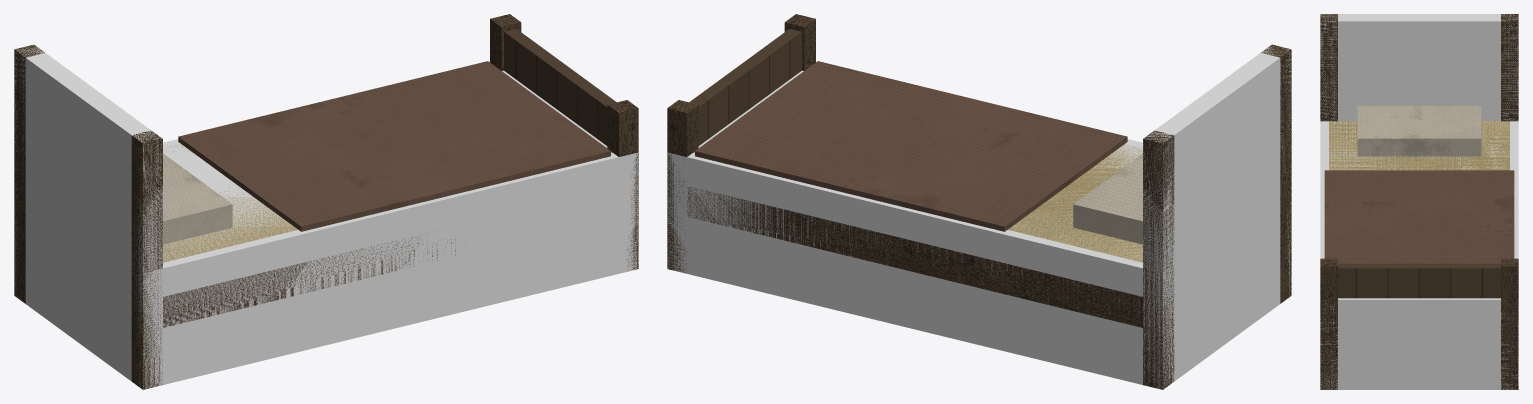
The model's file is bed.glb.
3 renders of one model, left to right at view 1: azimuth 30°, elevation 25°; view 2: azimuth 150°, elevation 25°; view 3: azimuth 270°, elevation 25°, orthographic. The views are drawn at different scales.
Parts seen in each view (by area): view 1: COL_HULL_bed, bed, COL_HULL_head; view 2: bed, COL_HULL_bed, COL_HULL_head; view 3: bed, COL_HULL_bed, COL_HULL_head.
Part boxes in pixels (bbox=[...]): COL_HULL_bed: bbox=[14, 70, 638, 389]; bed: bbox=[14, 14, 638, 389]; COL_HULL_head: bbox=[14, 44, 162, 273]; bed: bbox=[667, 14, 1291, 389]; COL_HULL_bed: bbox=[667, 70, 1291, 389]; COL_HULL_head: bbox=[1143, 45, 1291, 272]; bed: bbox=[1320, 14, 1518, 389]; COL_HULL_bed: bbox=[1320, 121, 1518, 389]; COL_HULL_head: bbox=[1320, 14, 1518, 121].
Size of the model in its own units: 2 by 0.95 by 0.9.
Materials: 5 (5 with a texture image).
